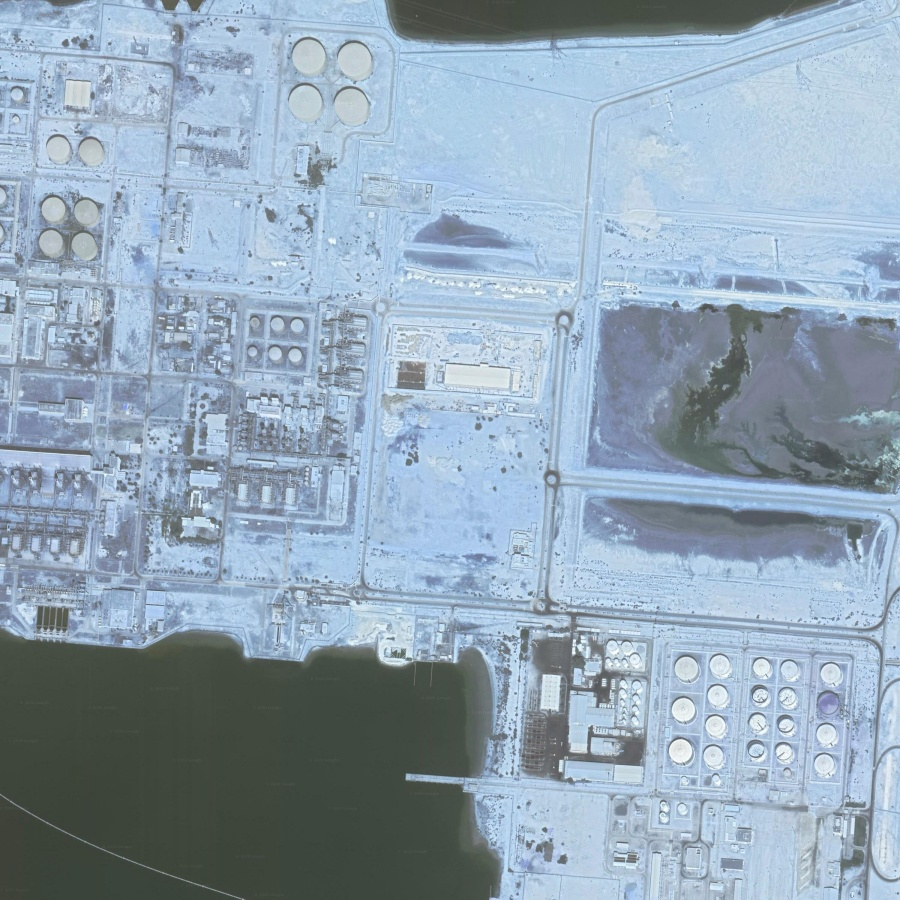PowerPlant: (502, 620, 858, 821)
